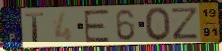4: (53, 10, 75, 44)
6: (115, 8, 137, 43)
E: (82, 8, 111, 44)
O: (143, 6, 172, 42)
T: (23, 12, 46, 44)
Z: (170, 6, 201, 41)
